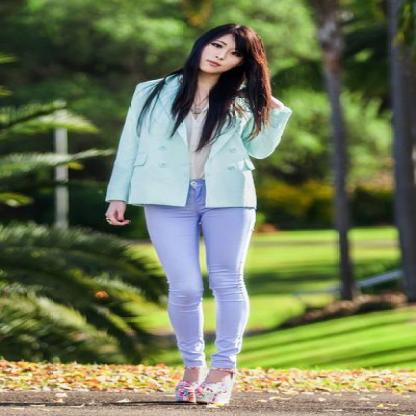jacket: (106, 78, 291, 207)
pants: (137, 174, 256, 374)
shirt: (177, 108, 218, 186)
